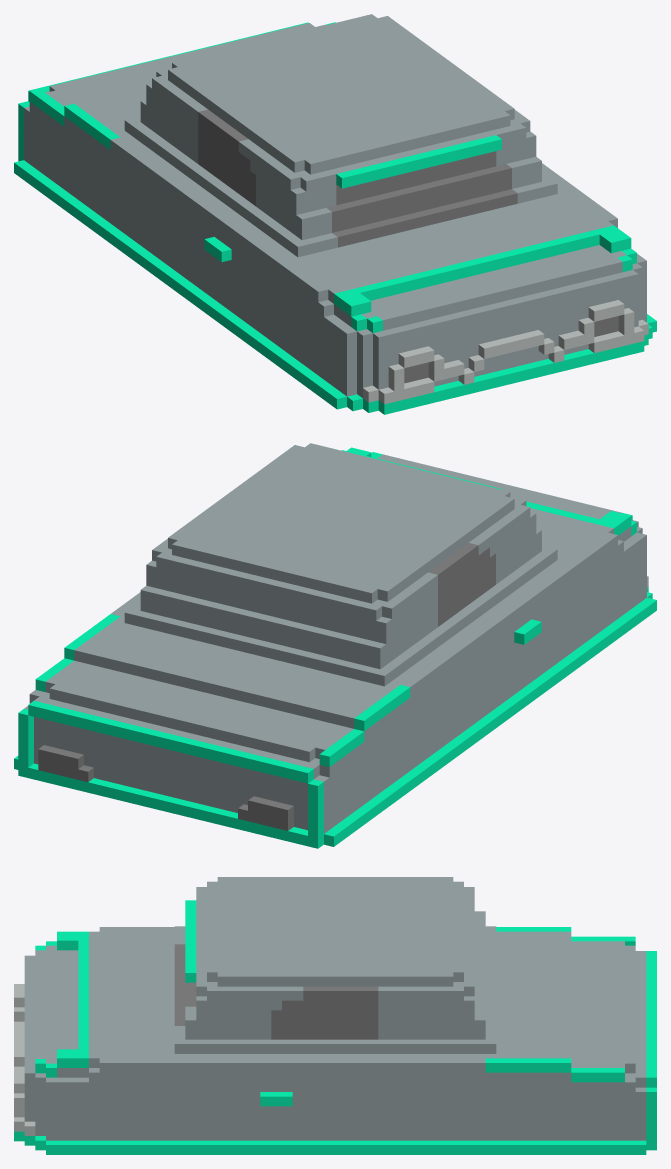
Rendered from Car_002.obj.
3 renders of one model, top to bottom at view 1: azimuth 30°, elevation 25°; view 2: azimuth 150°, elevation 25°; view 3: azimuth 270°, elevation 25°, orthographic. The views are drawn at different scales.
Size of the model in its own units: 3.2 by 1.8 by 6.
1 material, 1 textured.
